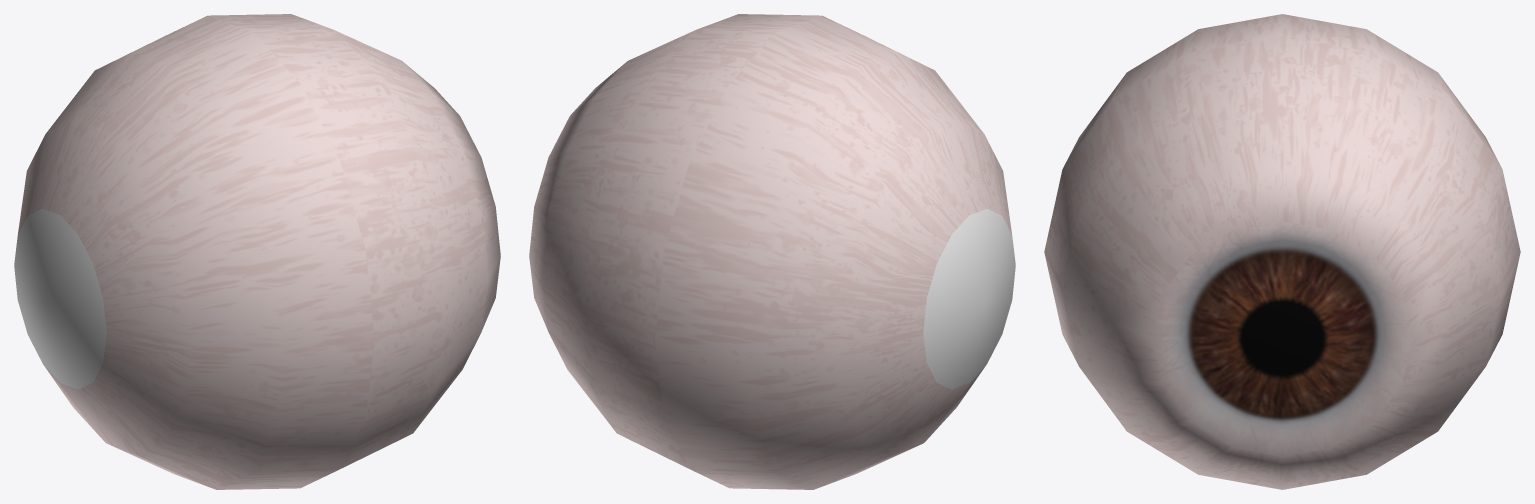
File: Eye.fbx
3 views of the same model, side by side, from view 1: azimuth 30°, elevation 25°; view 2: azimuth 150°, elevation 25°; view 3: azimuth 270°, elevation 25° (orthographic).
Parts seen in each view (by area): view 1: Eye; view 2: Eye; view 3: Eye.
Part boxes in pixels (x1,y1,x2,y2): Eye: [14, 14, 500, 489]; Eye: [529, 14, 1015, 489]; Eye: [1044, 14, 1520, 489].
Size of the model in its own units: 46.59 by 50 by 50.
